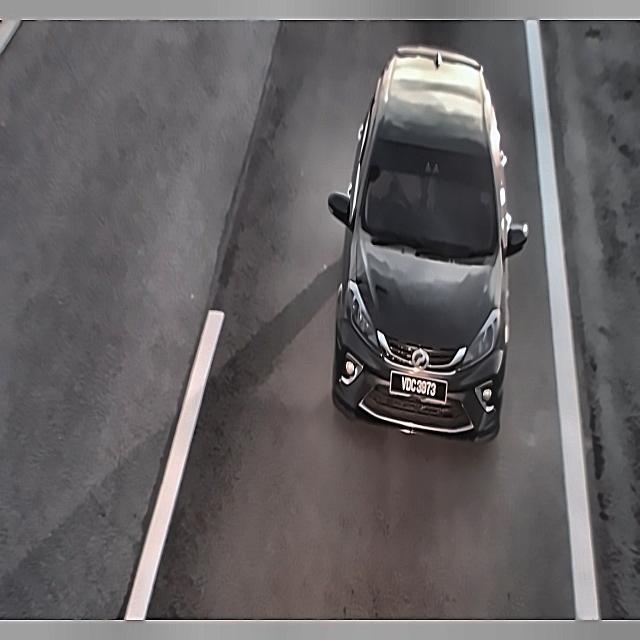car: (388, 363, 451, 408)
